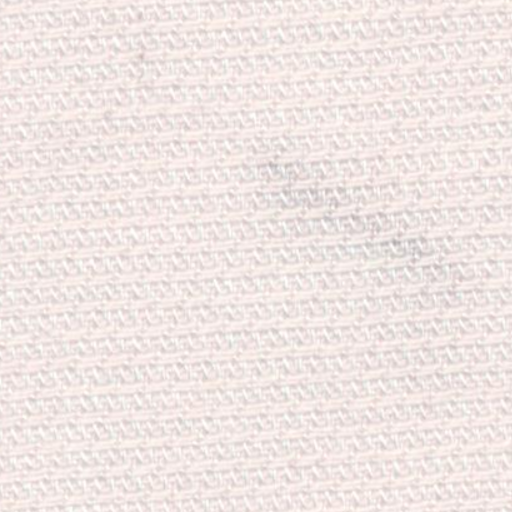WuZi: (248, 130, 470, 314)
